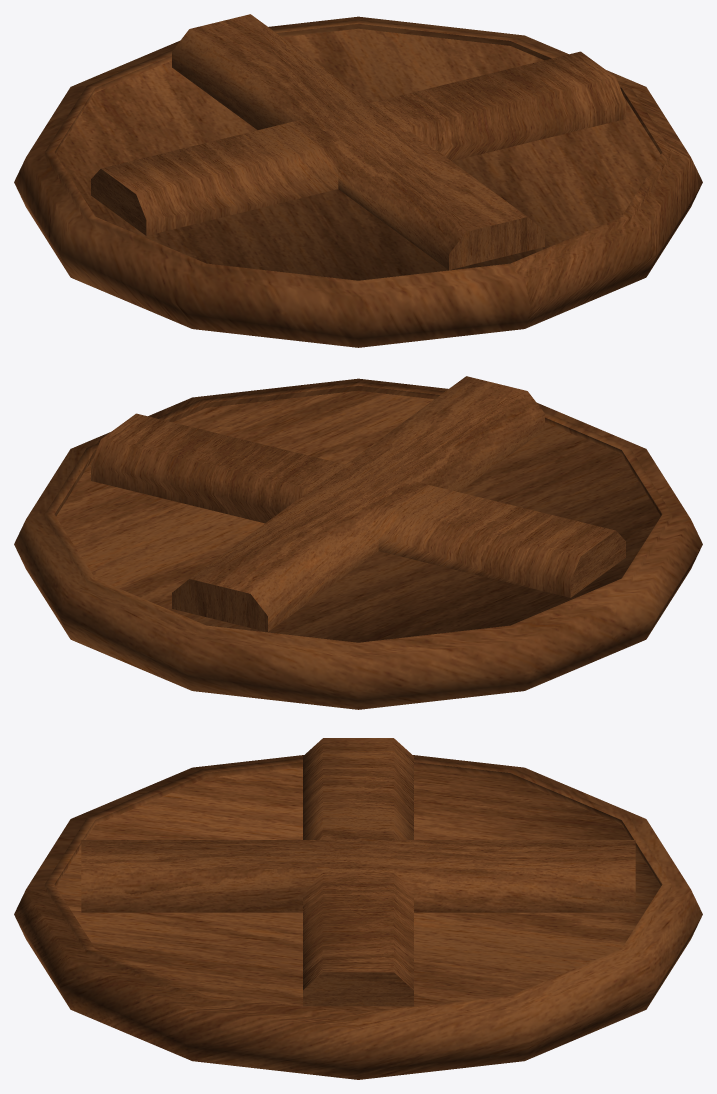
The model's file is Ficha_cartas.fbx.
3 renders of one model, top to bottom at view 1: azimuth 30°, elevation 25°; view 2: azimuth 150°, elevation 25°; view 3: azimuth 270°, elevation 25°, orthographic.
Parts seen in each view (by area): view 1: Base, Cruz; view 2: Base, Cruz; view 3: Base, Cruz.
Part boxes in pixels (x1=…): Base: x1=14, y1=16, x2=702, y2=347; Cruz: x1=91, y1=14, x2=625, y2=269; Base: x1=14, y1=378, x2=702, y2=709; Cruz: x1=91, y1=376, x2=625, y2=631; Base: x1=14, y1=755, x2=702, y2=1079; Cruz: x1=81, y1=738, x2=635, y2=1006.
Size of the model in its own units: 439 by 59.39 by 439.
